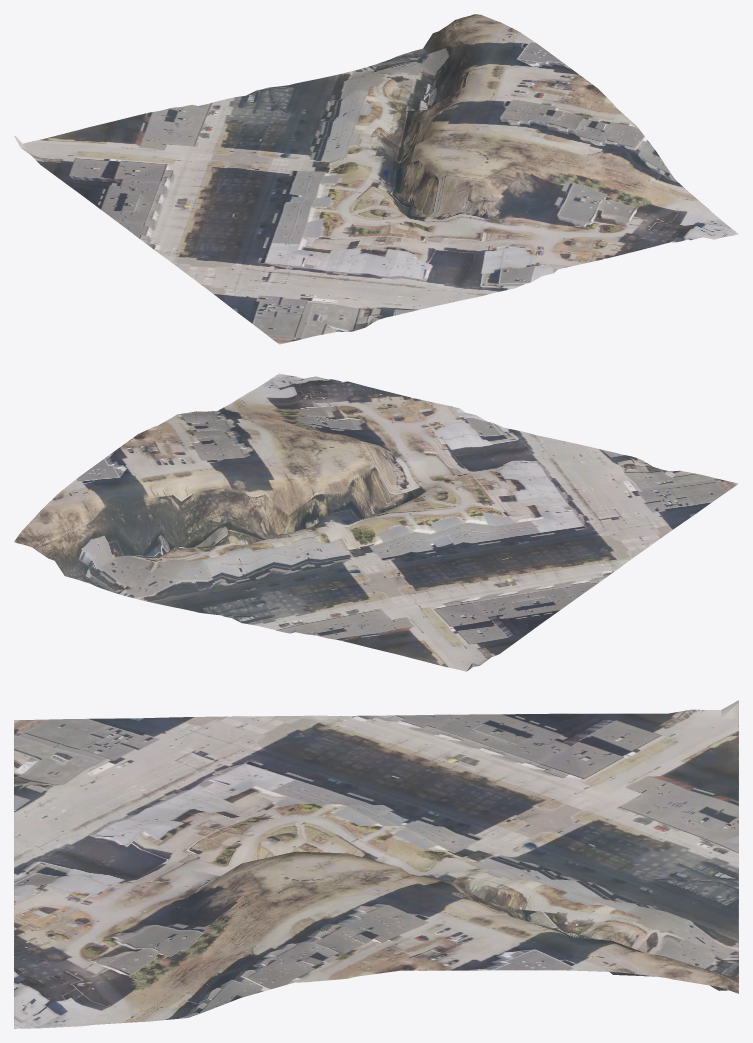
The model's file is CM_Terrain_24487387_6821636.fbx.
3 renders of one model, top to bottom at view 1: azimuth 30°, elevation 25°; view 2: azimuth 150°, elevation 25°; view 3: azimuth 270°, elevation 25°, orthographic. The views are drawn at different scales.
Visible parts, largest first — view 1: CM_Terrain_24487387_6821636_LOD0; view 2: CM_Terrain_24487387_6821636_LOD0; view 3: CM_Terrain_24487387_6821636_LOD0.
Boxes of the visible parts, x1=… form: CM_Terrain_24487387_6821636_LOD0: x1=14, y1=14, x2=738, y2=344; CM_Terrain_24487387_6821636_LOD0: x1=14, y1=373, x2=738, y2=671; CM_Terrain_24487387_6821636_LOD0: x1=14, y1=700, x2=738, y2=1028.
Size of what is drawn, in the model's own units: 205 by 19.89 by 205.
